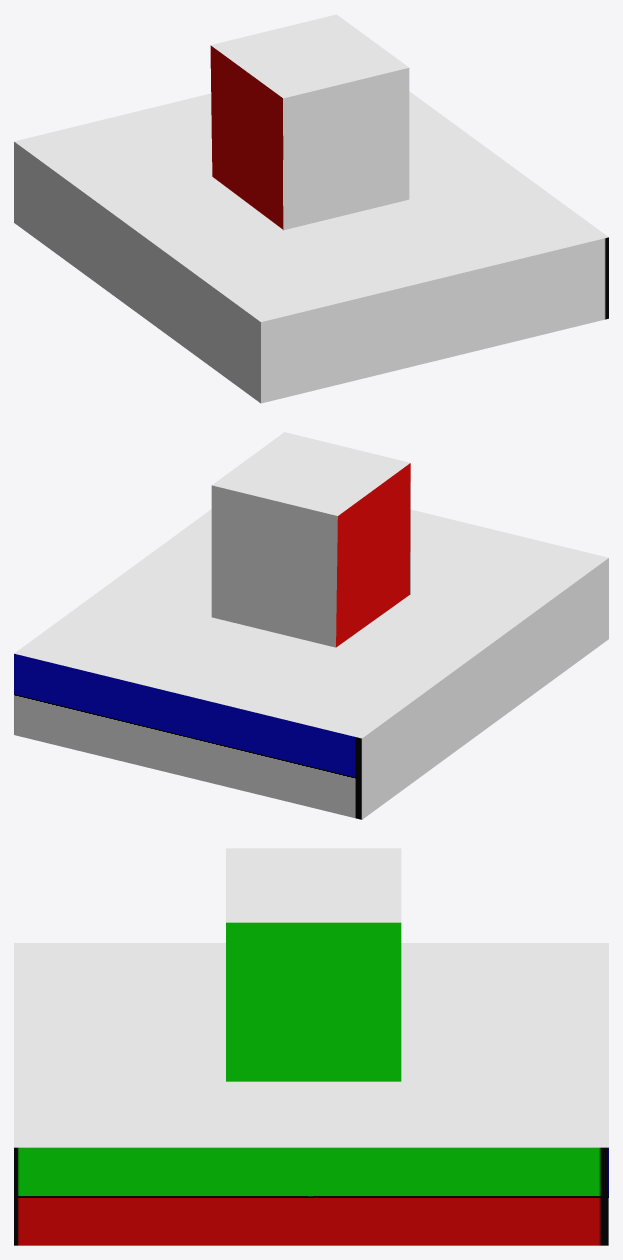
File: cornel_box.obj
3 renders of one model, top to bottom at view 1: azimuth 30°, elevation 25°; view 2: azimuth 150°, elevation 25°; view 3: azimuth 270°, elevation 25°, orthographic. The views are drawn at different scales.
Visible parts, largest first — view 1: Cube, CornellBox-Original, Plane; view 2: Cube, CornellBox-Original; view 3: Cube, CornellBox-Original.
Boxes of the visible parts, bbox=[...] form: Cube: bbox=[14, 91, 608, 403]; CornellBox-Original: bbox=[210, 14, 408, 229]; Plane: bbox=[283, 68, 409, 230]; Cube: bbox=[14, 509, 608, 819]; CornellBox-Original: bbox=[211, 432, 410, 647]; Cube: bbox=[14, 943, 608, 1245]; CornellBox-Original: bbox=[226, 848, 401, 1081].
Size of the model in its own units: 11.04 by 6.48 by 13.56.
